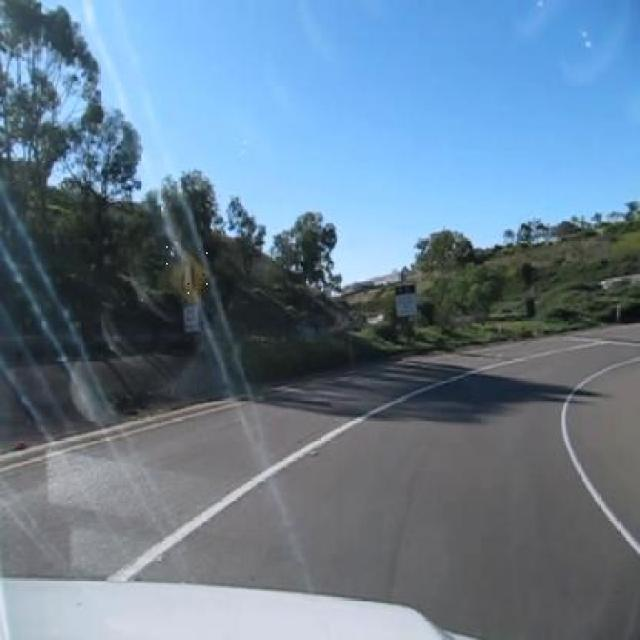laneEnds: (168, 248, 210, 306)
